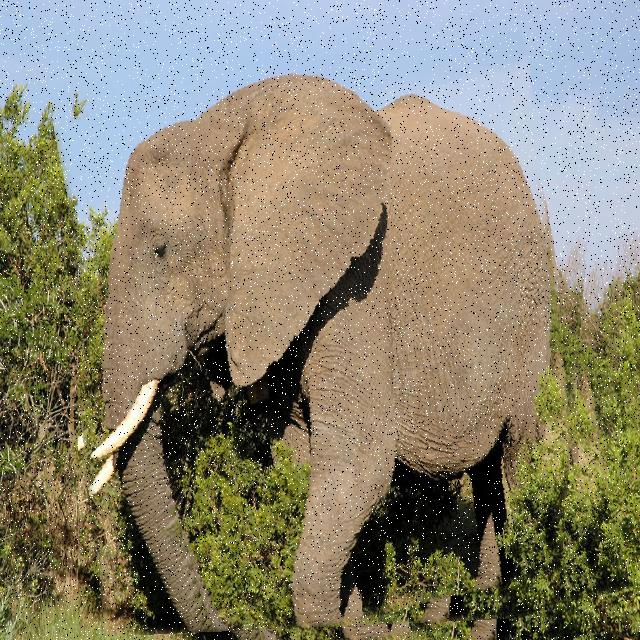elephant: (78, 50, 605, 640)
